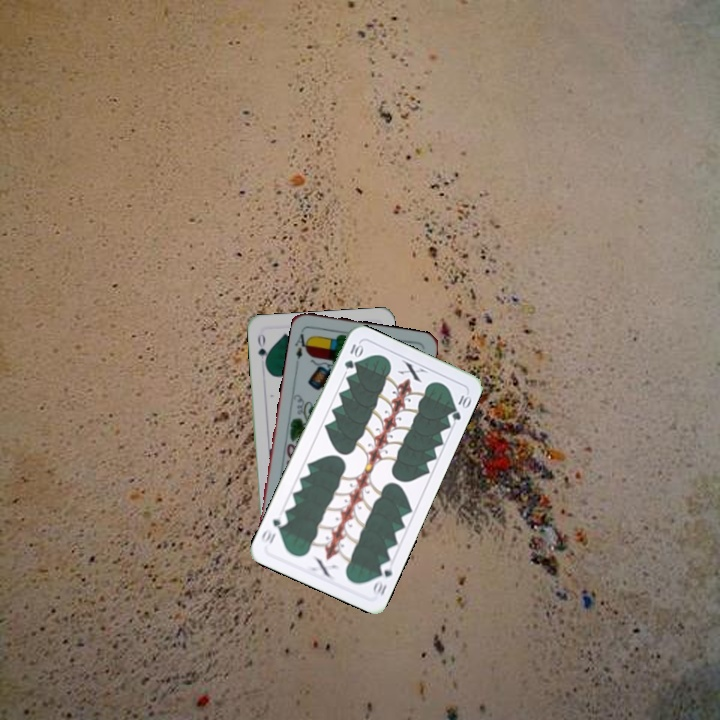EA: (291, 326, 313, 362)
G10: (369, 558, 395, 599), (340, 340, 365, 371)
GO: (254, 330, 271, 370)
